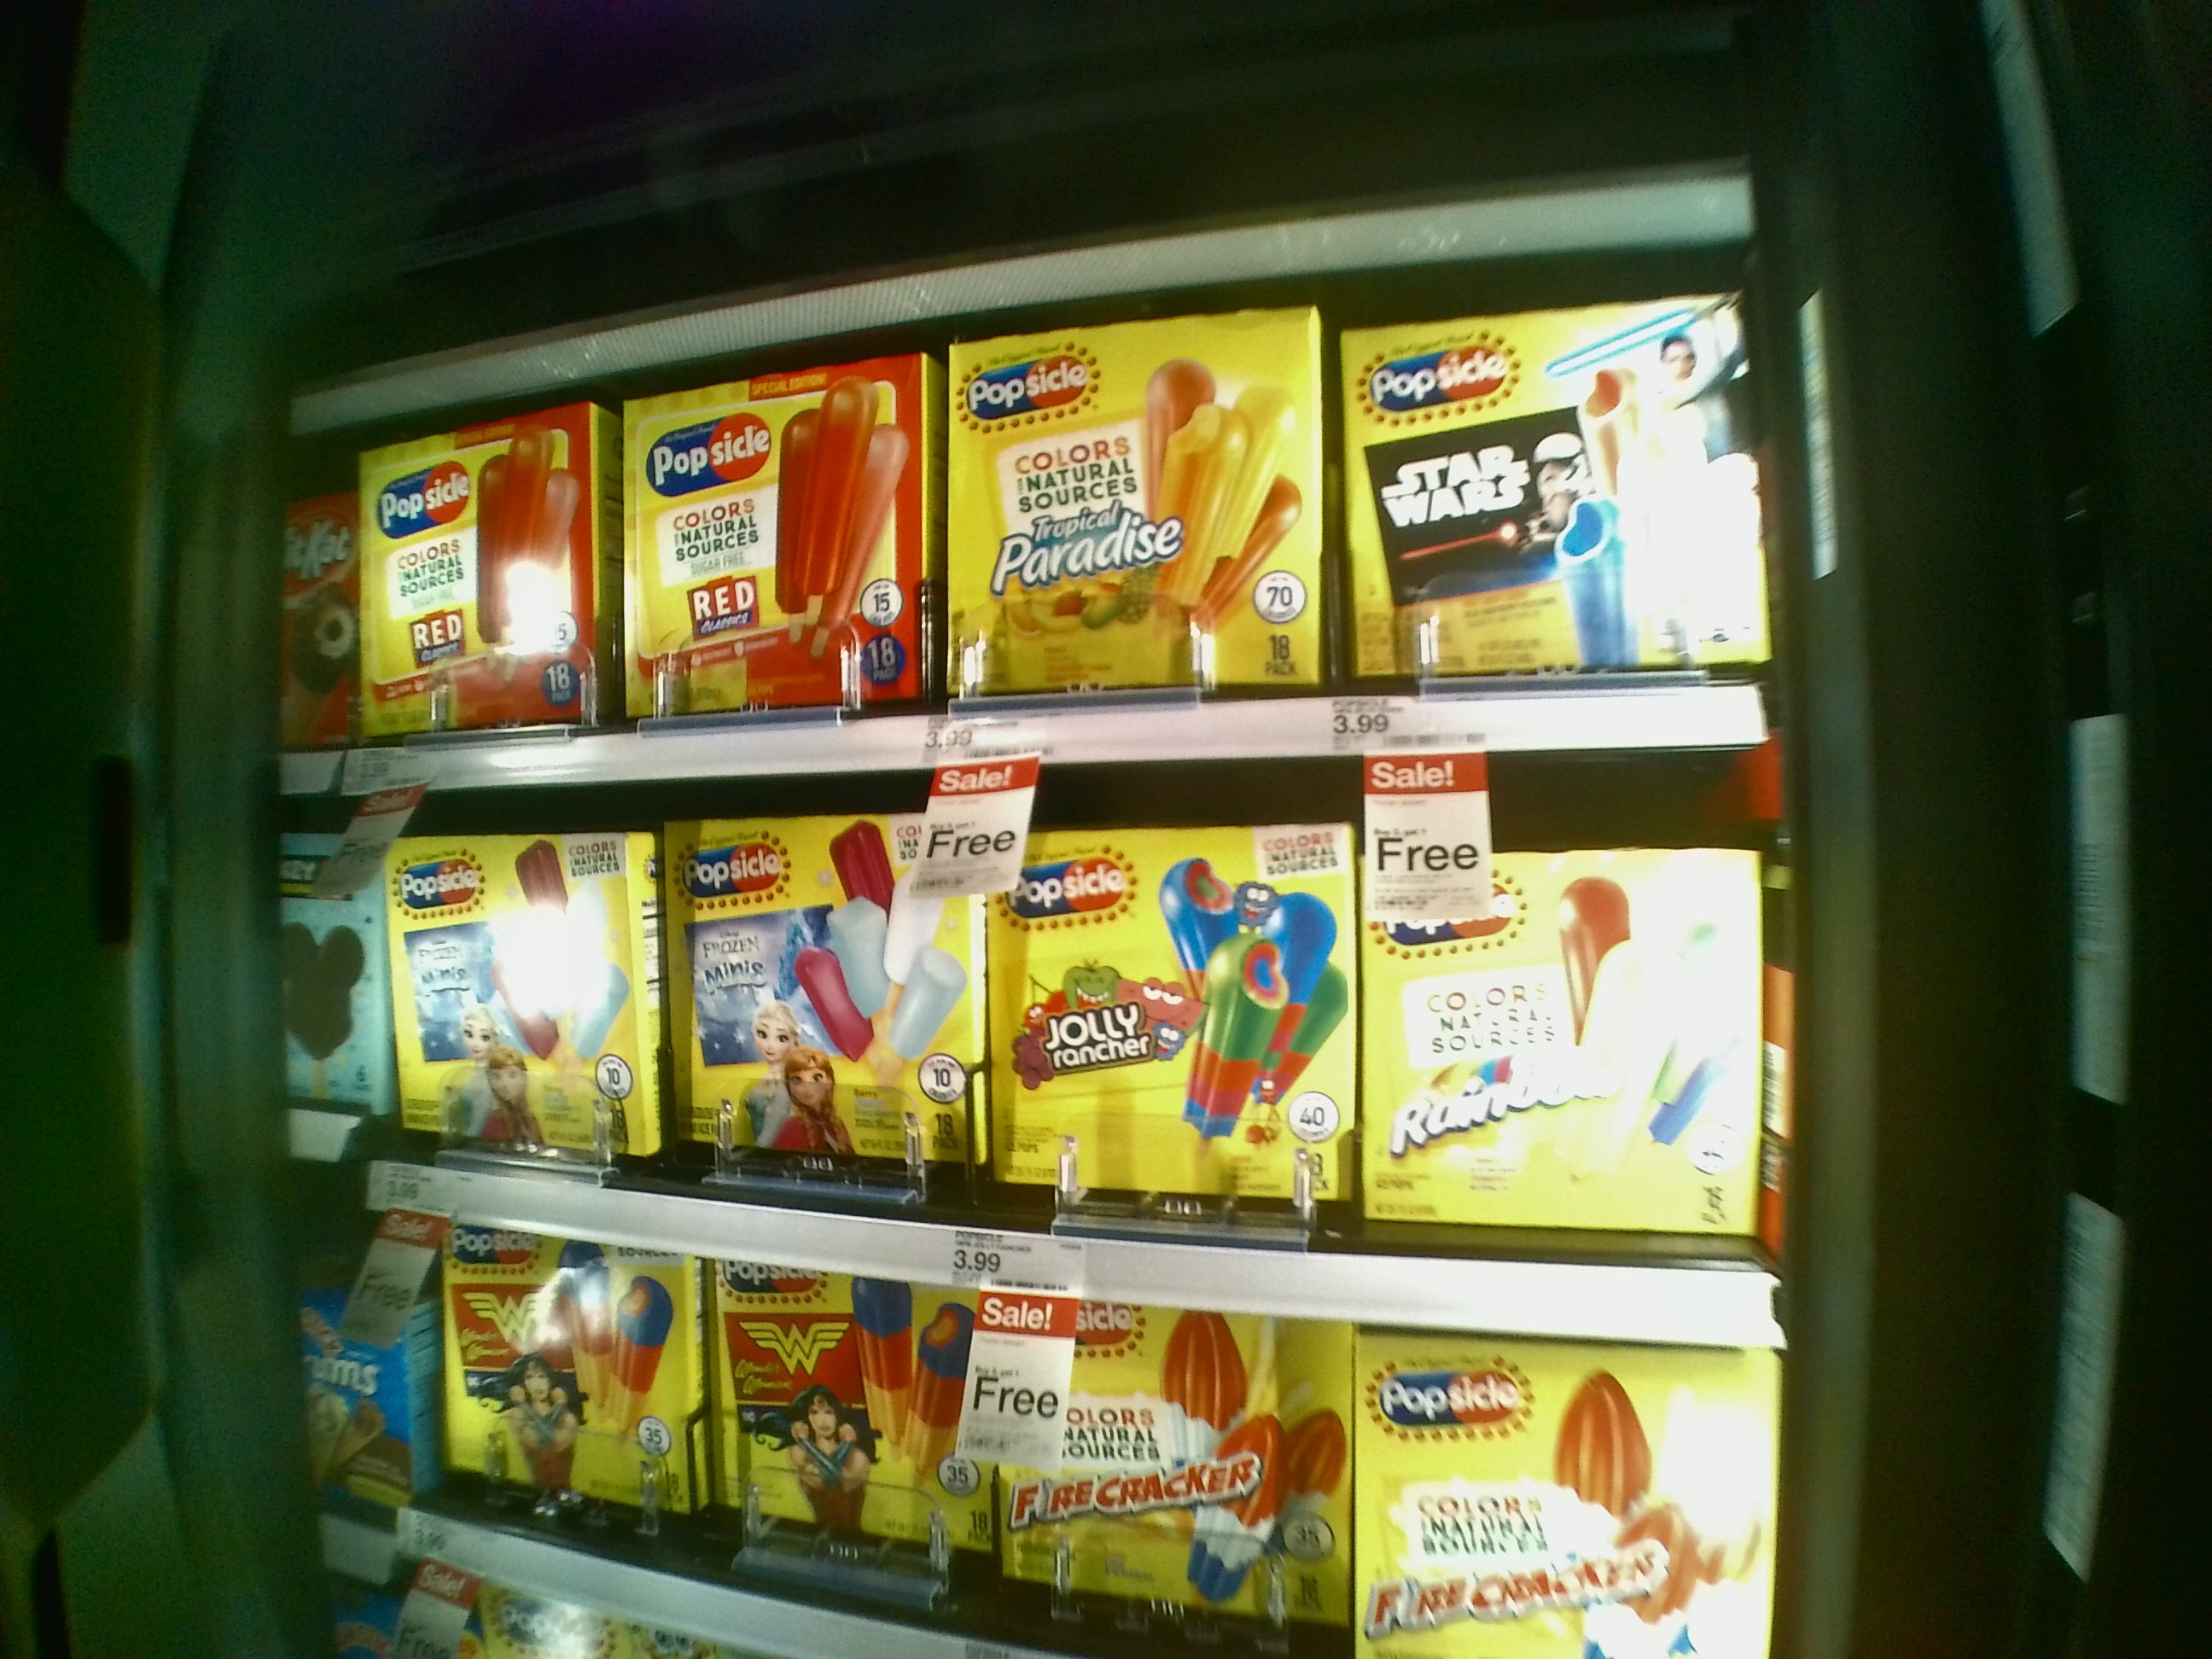shelf: (348, 786, 1787, 1344), (324, 375, 1749, 786)
